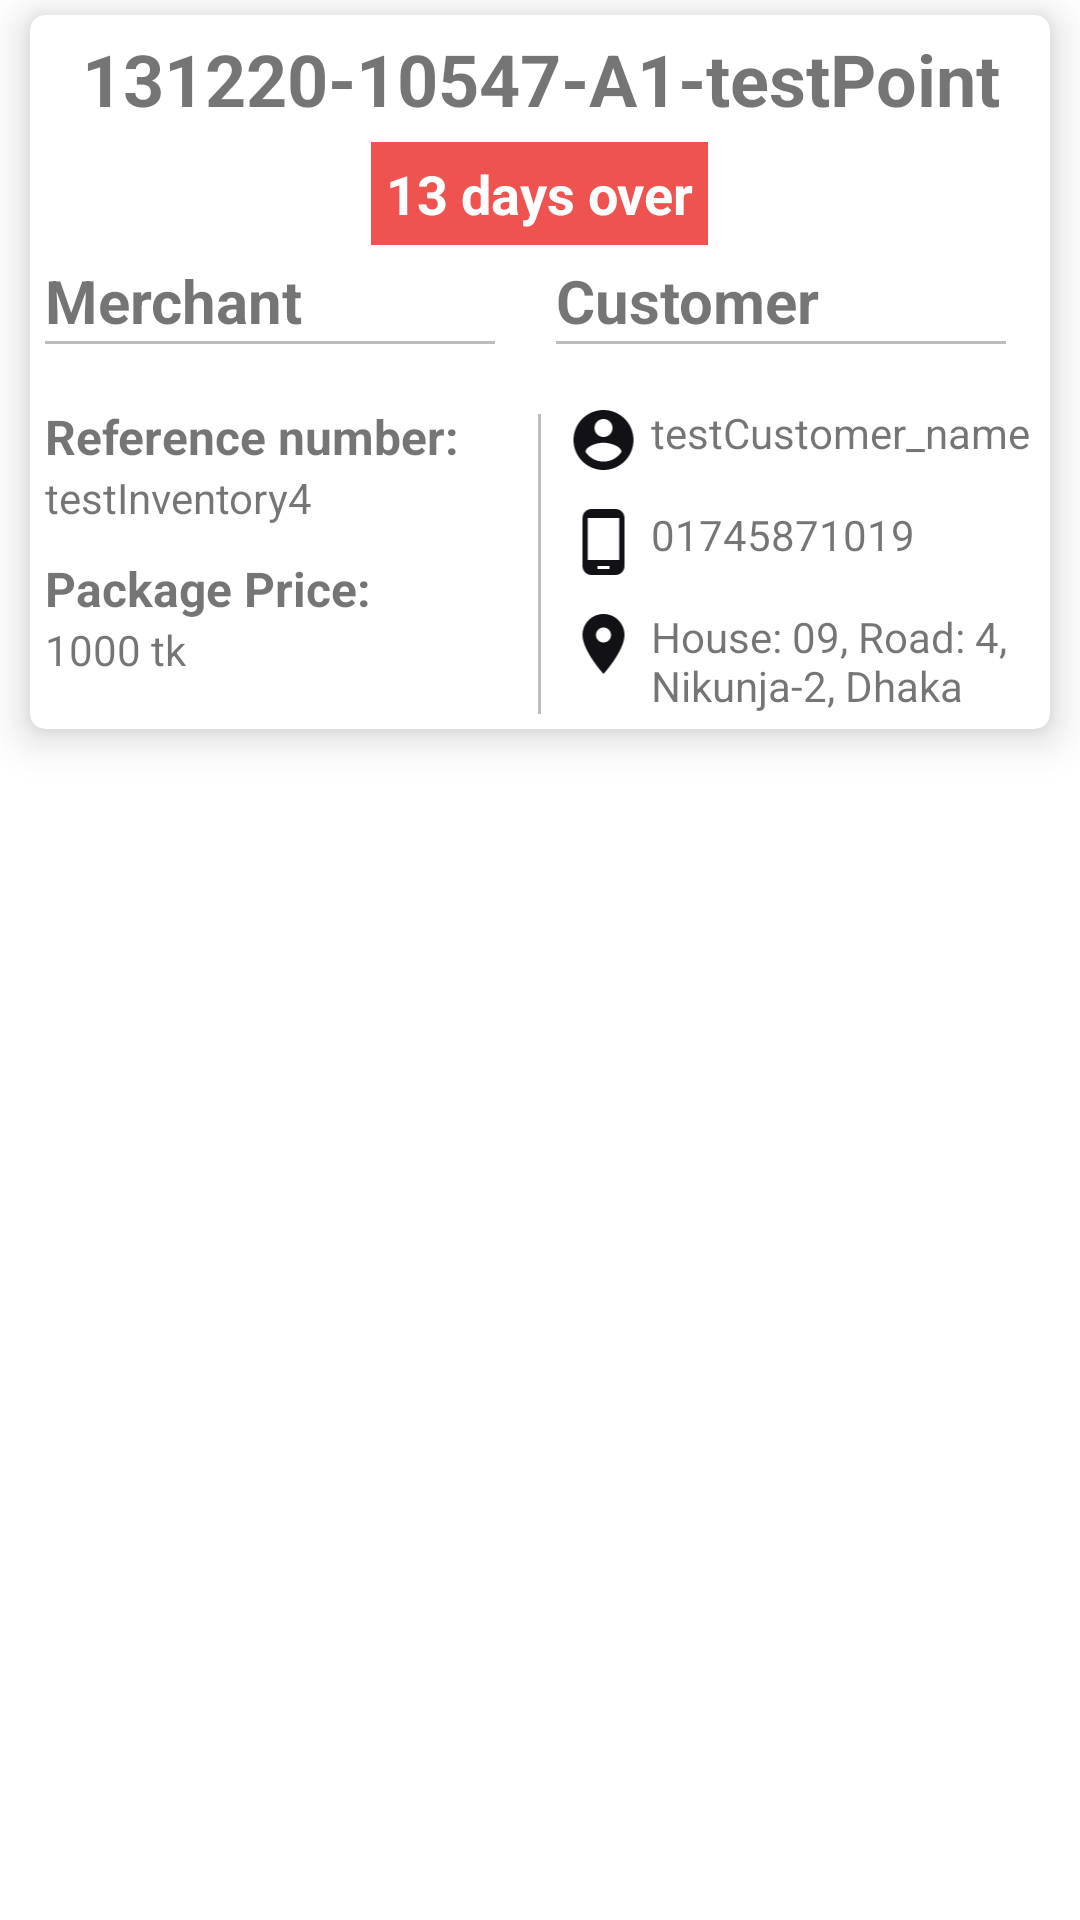

Icon click points for this 1080px x 1920px phone screenshot, format point (x, y):
customer address draawable: point (603, 644)
customer phone: point (603, 542)
